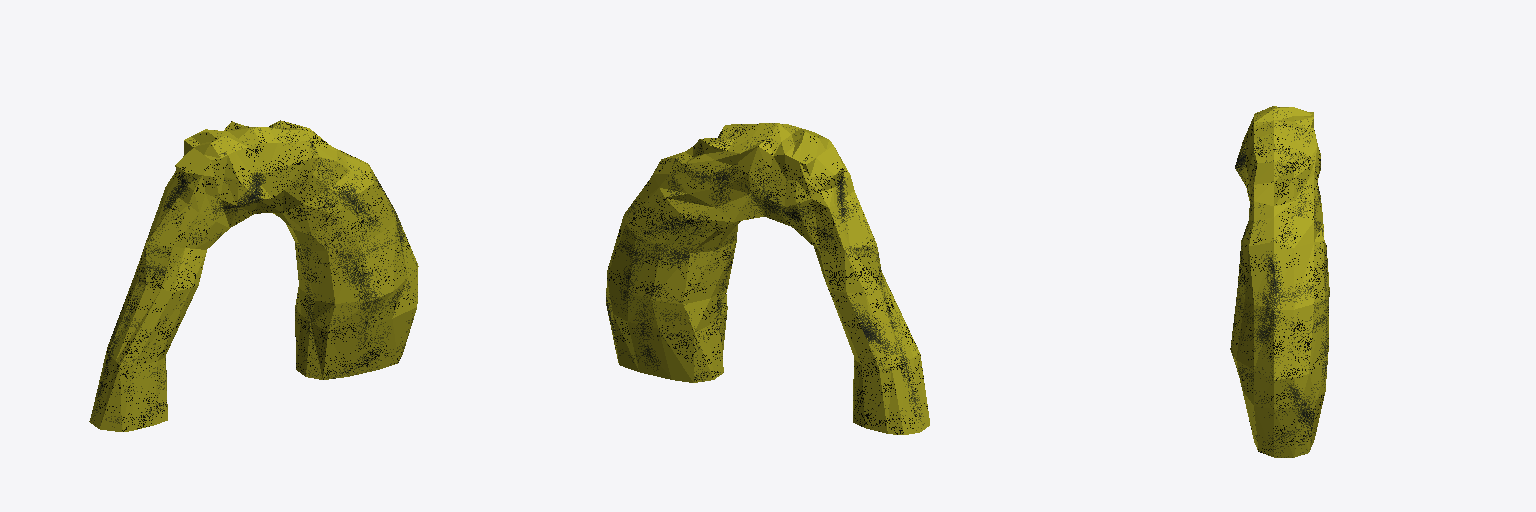
The picture shows the model from 3 angles: view 1: azimuth 30°, elevation 25°; view 2: azimuth 150°, elevation 25°; view 3: azimuth 270°, elevation 25°; orthographic projection.
Parts seen in each view (by area): view 1: 立方体_立方体.001; view 2: 立方体_立方体.001; view 3: 立方体_立方体.001.
Boxes of the visible parts, box(x1,y1,x2,y2) form: 立方体_立方体.001: box(89, 120, 418, 431); 立方体_立方体.001: box(606, 123, 929, 434); 立方体_立方体.001: box(1230, 106, 1329, 457).
Bounding box in the file's own units: 12.24 × 9.7 × 3.3.
Materials: 1 (1 with a texture image).